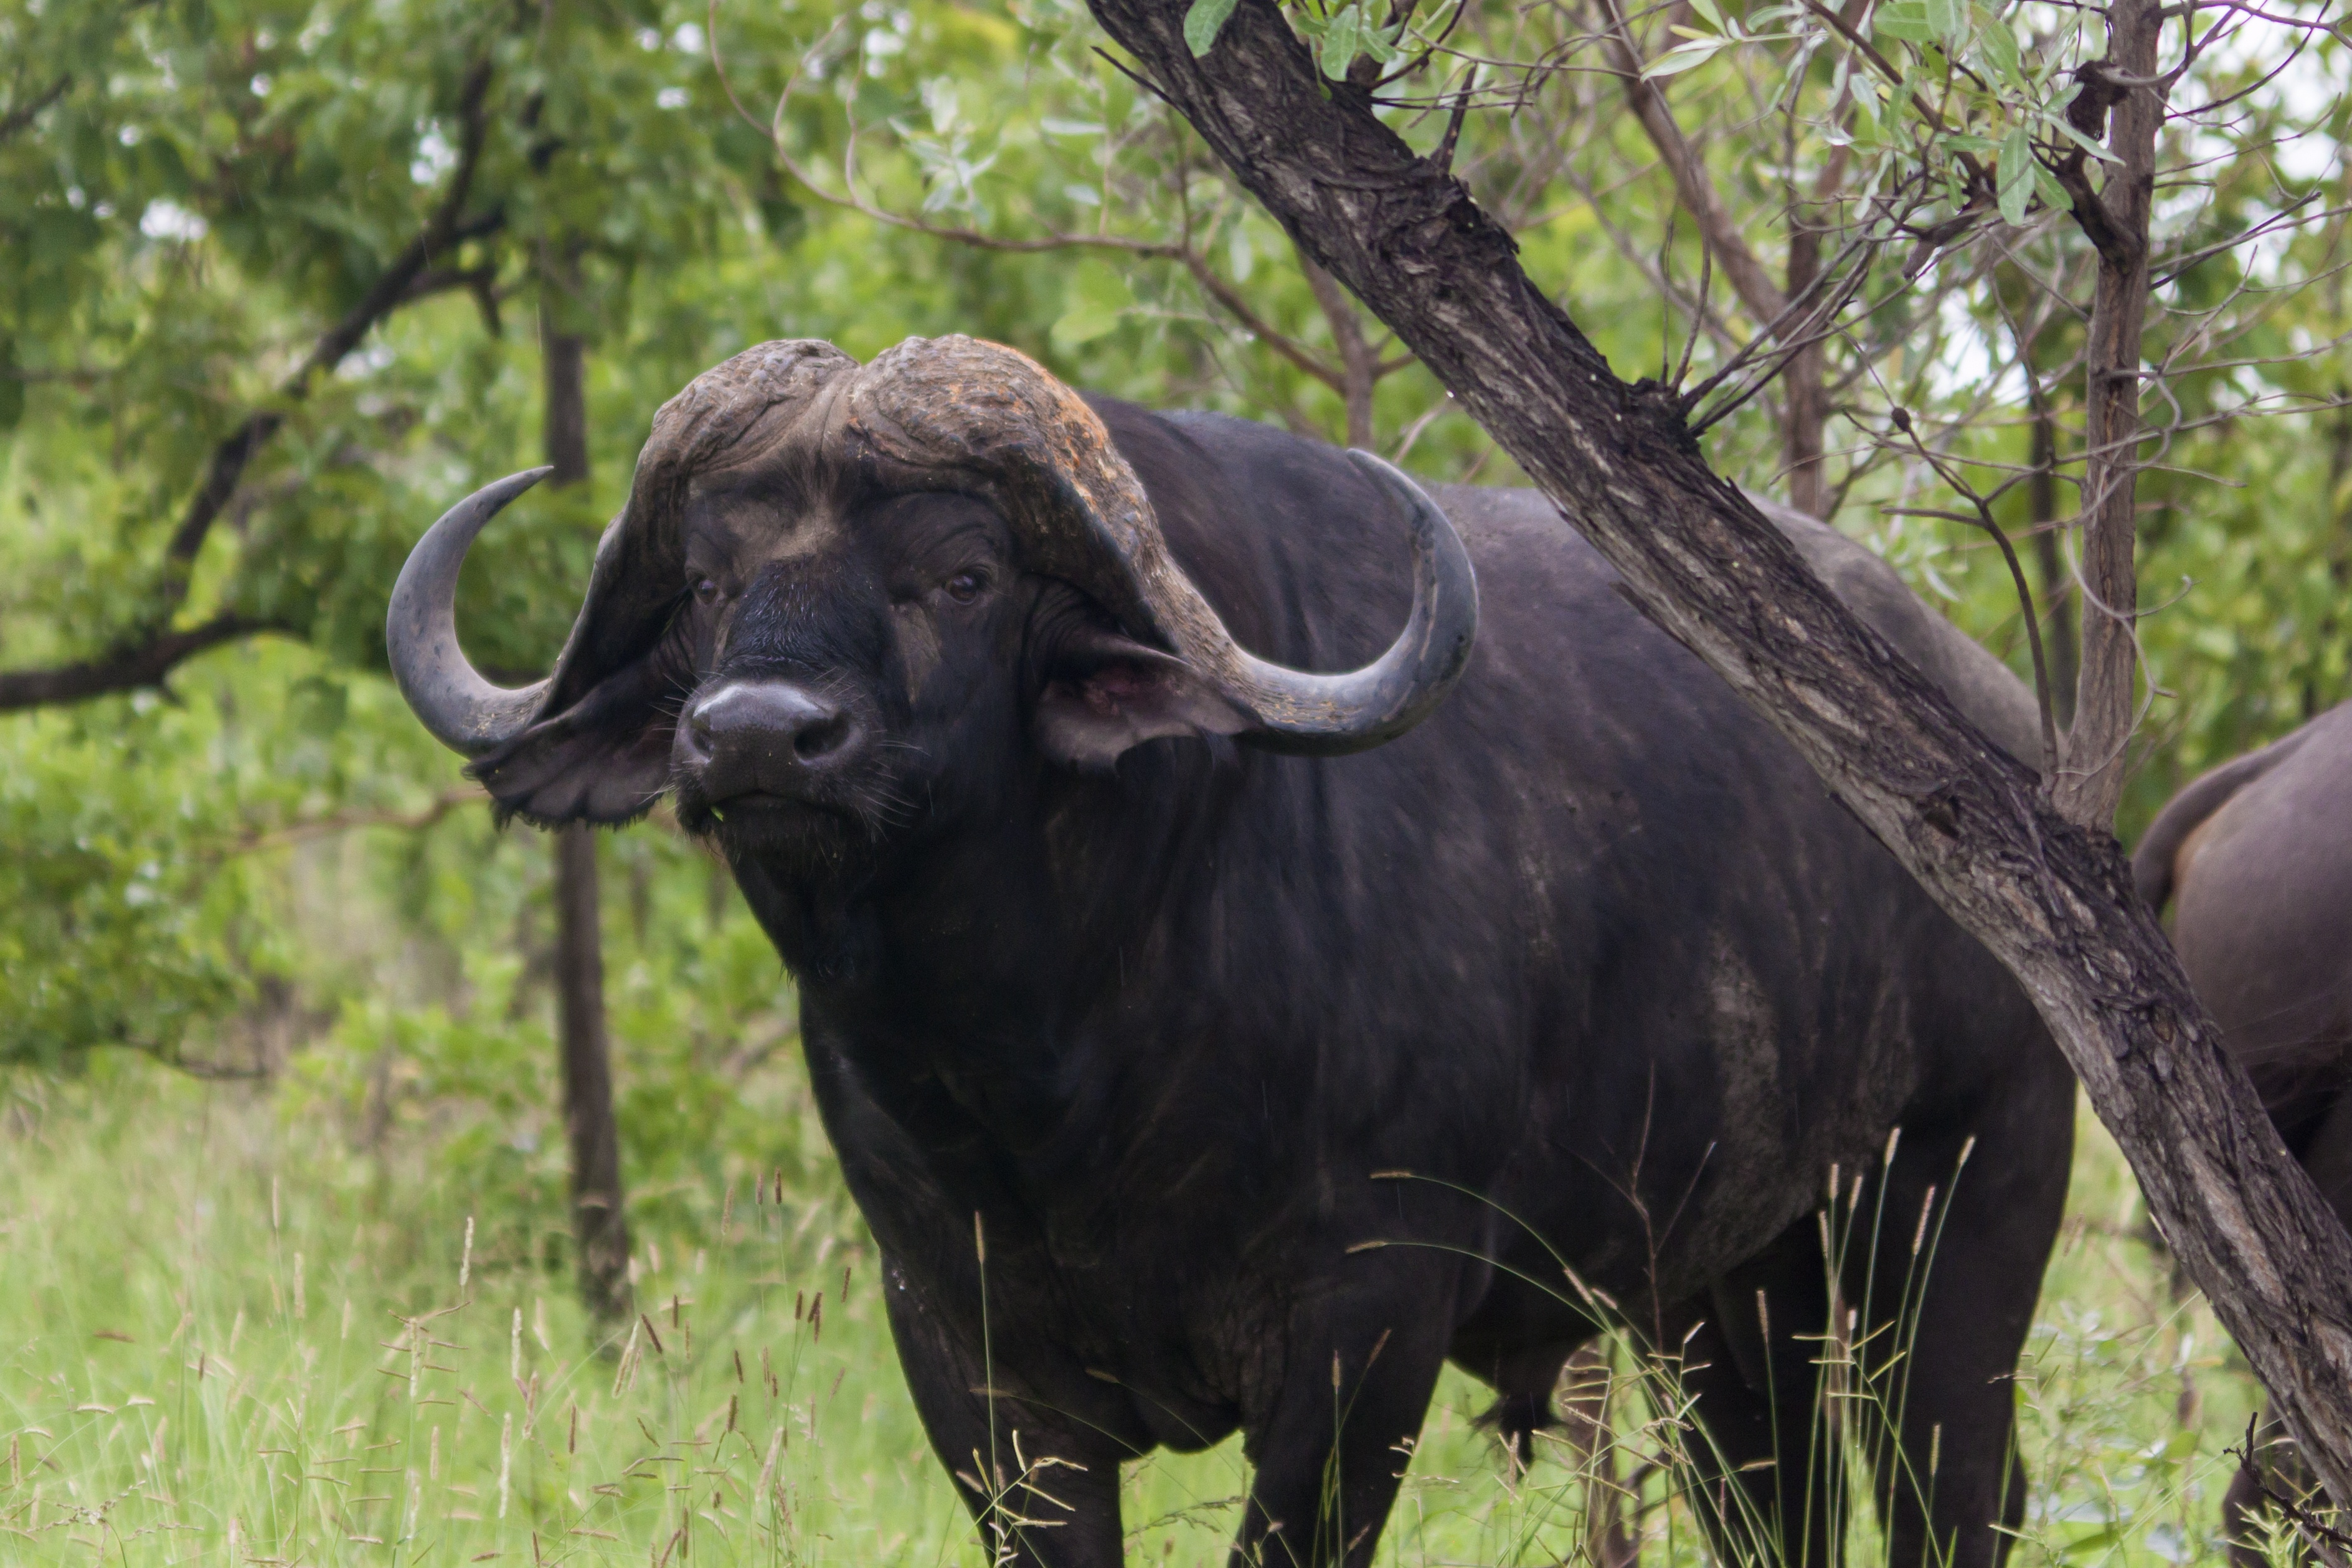buffalo: (387, 336, 2082, 1568)
